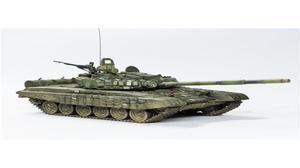t72: (14, 60, 293, 120)
